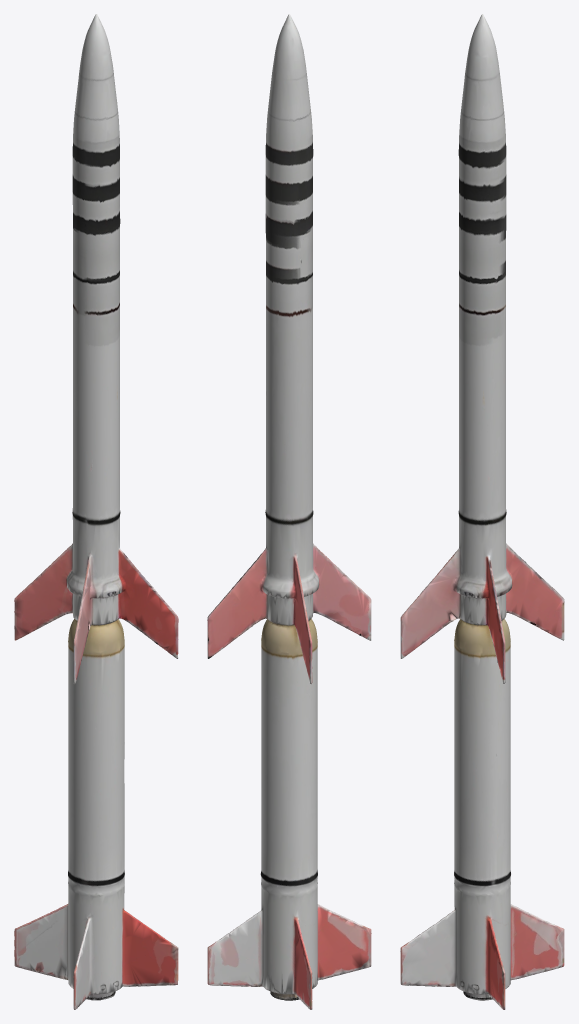
Rendered from ogre.glb.
3 renders of one model, left to right at view 1: azimuth 30°, elevation 25°; view 2: azimuth 150°, elevation 25°; view 3: azimuth 330°, elevation 25°, orthographic.
Size of the model in its own units: 0.2126 by 1.9 by 0.2124.
Materials: 1 (1 with a texture image).
